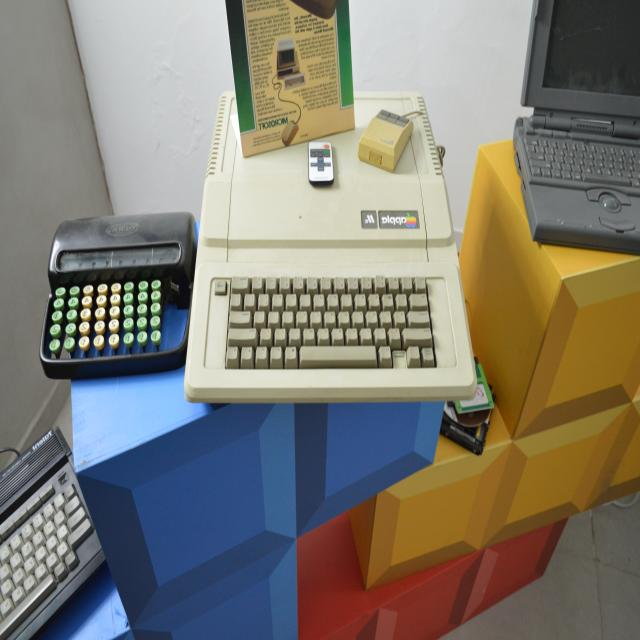powerbook 160: (522, 0, 640, 245)
